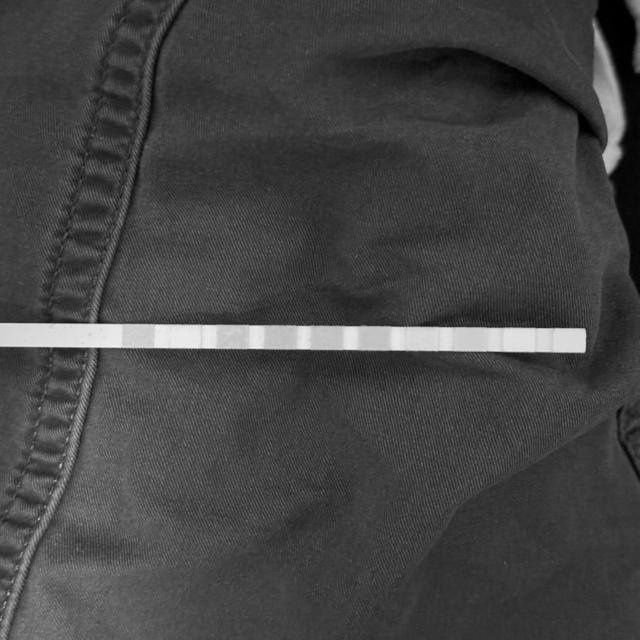Bilirubin: (171, 325, 200, 348)
Blood: (312, 326, 345, 350)
Glucose: (122, 325, 154, 348)
Ketone: (219, 326, 247, 348)
Leukocytes: (555, 329, 584, 352)
Nitrite: (504, 328, 534, 352)
Protein: (407, 328, 437, 350)
SpGravity: (266, 326, 296, 348)
Urobilinogen: (455, 328, 486, 351)
background: (0, 0, 640, 640)
pH: (359, 327, 390, 350)
strip: (2, 324, 586, 353)
